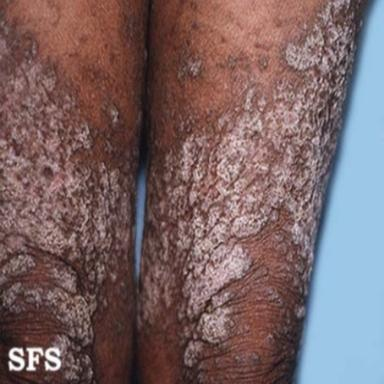Darier_s-Disease: (138, 1, 367, 383), (1, 0, 152, 384)
